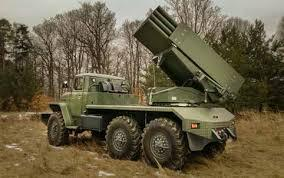MIL_SAM_TEL: (44, 5, 245, 167)
